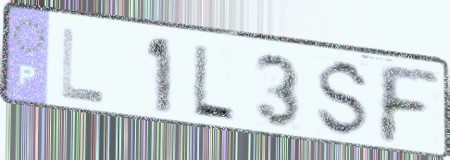1: (144, 36, 175, 116)
3: (253, 51, 304, 130)
F: (374, 60, 443, 148)
L: (188, 41, 238, 124), (59, 25, 108, 106)
S: (313, 58, 374, 140)
